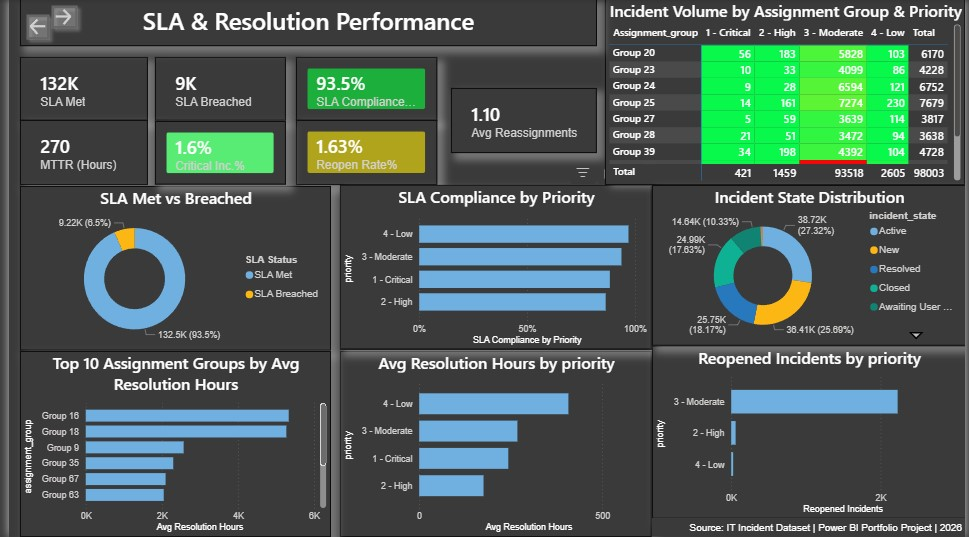

Layout of this report page (visuals, bound fields, positions):
{"tool":"powerbi","page":{"name":"SLA Analysis","canvas":[1280,720],"ordinal":1},"visuals":[{"type":"cardVisual","fields":{"Data":["Calculated Measures.SLA Met"]},"box":[15.1,77.1,170.7,85.3],"z":0},{"type":"cardVisual","fields":{"Data":["Calculated Measures.SLA Breached"]},"box":[195.4,77.1,174.8,85.3],"z":1000},{"type":"cardVisual","fields":{"Data":["Calculated Measures.SLA Compliance %"]},"box":[384,77.1,188.6,85.3],"z":2000},{"type":"cardVisual","fields":{"Data":["Calculated Measures.MTTR (Hours)"]},"box":[15.1,162.4,170.7,86.7],"z":3000},{"type":"cardVisual","fields":{"Data":["Calculated Measures.Reopen Rate%"]},"box":[384,162.4,188.6,86.7],"z":4000},{"type":"donutChart","title":"SLA Met vs Breached","fields":{"Y":["CountNonNull(Incidents.number)"],"Category":["Incidents.SLA Status"]},"box":[15.1,250.5,415.7,220.2],"z":5000},{"type":"clusteredBarChart","fields":{"Category":["Incidents.priority"],"Y":["Calculated Measures.Avg Resolution Hours"]},"box":[443.2,470.7,417,249.1],"z":6000},{"type":"clusteredBarChart","title":"SLA Compliance by Priority","fields":{"Category":["Incidents.priority"],"Y":["Calculated Measures.SLA Compliance by Priority"]},"box":[443.2,249.1,417,220.2],"z":7000},{"type":"barChart","title":"Top 10 Assignment Groups by Avg Resolution Hours","fields":{"Category":["Incidents.assignment_group"],"Y":["Calculated Measures.Avg Resolution Hours"]},"box":[15.1,470.7,415.7,249.1],"z":8000},{"type":"barChart","fields":{"Category":["Incidents.priority"],"Y":["Calculated Measures.Reopened Incidents"]},"box":[860.2,463.8,419.8,231.2],"z":9000},{"type":"cardVisual","fields":{"Data":["Calculated Measures.Critical Inc.%"]},"box":[195.4,163.8,174.8,85.3],"z":10000},{"type":"cardVisual","fields":{"Data":["Calculated Measures.Avg Reassignments"]},"box":[591.8,119.7,195.4,86.7],"z":11000},{"type":"pivotTable","title":"Incident Volume by Assignment Group & Priority","fields":{"Columns":["Incidents.priority"],"Rows":["Incidents.assignment_group"],"Values":["Calculated Measures.Total Incidents"]},"box":[798.3,0,481.7,249.1],"z":12000},{"type":"donutChart","title":"Incident State Distribution","fields":{"Category":["Incidents.incident_state"],"Y":["CountNonNull(Incidents.number)"]},"box":[860.2,249.1,419.8,214.7],"z":13000},{"type":"textbox","box":[15.1,0,772.1,63.3],"z":14000},{"type":"actionButton","box":[15.1,12.4,48.2,50.9],"z":15000},{"type":"actionButton","box":[48.2,0,52.3,48.2],"z":16000},{"type":"textbox","box":[860.2,695.1,419.8,24.8],"z":17000}]}

Visuals, with their boxes in screenshot pixels (x1, y1, x2, y2), scaled from the page's 1280x720 canvas onto the 969x537 screenshot:
cardVisual - Calculated Measures.SLA Met: bbox(11, 58, 141, 121)
cardVisual - Calculated Measures.SLA Breached: bbox(148, 58, 280, 121)
cardVisual - Calculated Measures.SLA Compliance %: bbox(291, 58, 433, 121)
cardVisual - Calculated Measures.MTTR (Hours): bbox(11, 121, 141, 186)
cardVisual - Calculated Measures.Reopen Rate%: bbox(291, 121, 433, 186)
"SLA Met vs Breached" donutChart: bbox(11, 187, 326, 351)
clusteredBarChart - Incidents.priority x Calculated Measures.Avg Resolution Hours: bbox(336, 351, 651, 536)
"SLA Compliance by Priority" clusteredBarChart: bbox(336, 186, 651, 350)
"Top 10 Assignment Groups by Avg Resolution Hours" barChart: bbox(11, 351, 326, 536)
barChart - Incidents.priority x Calculated Measures.Reopened Incidents: bbox(651, 346, 968, 518)
cardVisual - Calculated Measures.Critical Inc.%: bbox(148, 122, 280, 186)
cardVisual - Calculated Measures.Avg Reassignments: bbox(448, 89, 596, 154)
"Incident Volume by Assignment Group & Priority" pivotTable: bbox(604, 0, 968, 186)
"Incident State Distribution" donutChart: bbox(651, 186, 968, 346)
textbox: bbox(11, 0, 596, 47)
actionButton: bbox(11, 9, 48, 47)
actionButton: bbox(36, 0, 76, 36)
textbox: bbox(651, 518, 968, 536)
